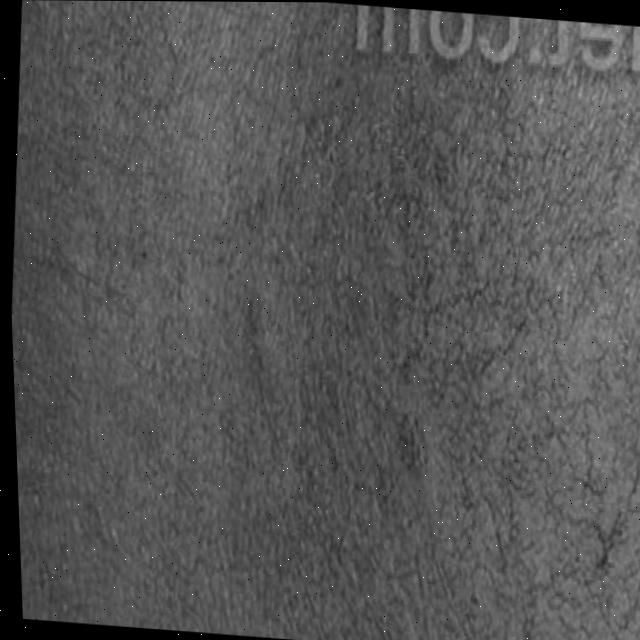Rosacea: (351, 67, 640, 640)
